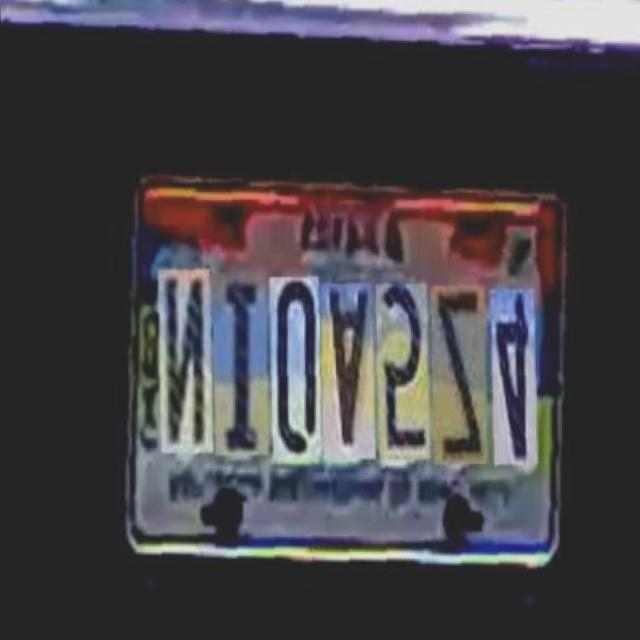0: (260, 284, 316, 467)
4: (480, 302, 531, 480)
5: (367, 294, 424, 472)
a: (310, 291, 369, 469)
i: (202, 278, 263, 462)
n: (148, 273, 207, 459)
z: (421, 297, 482, 478)
